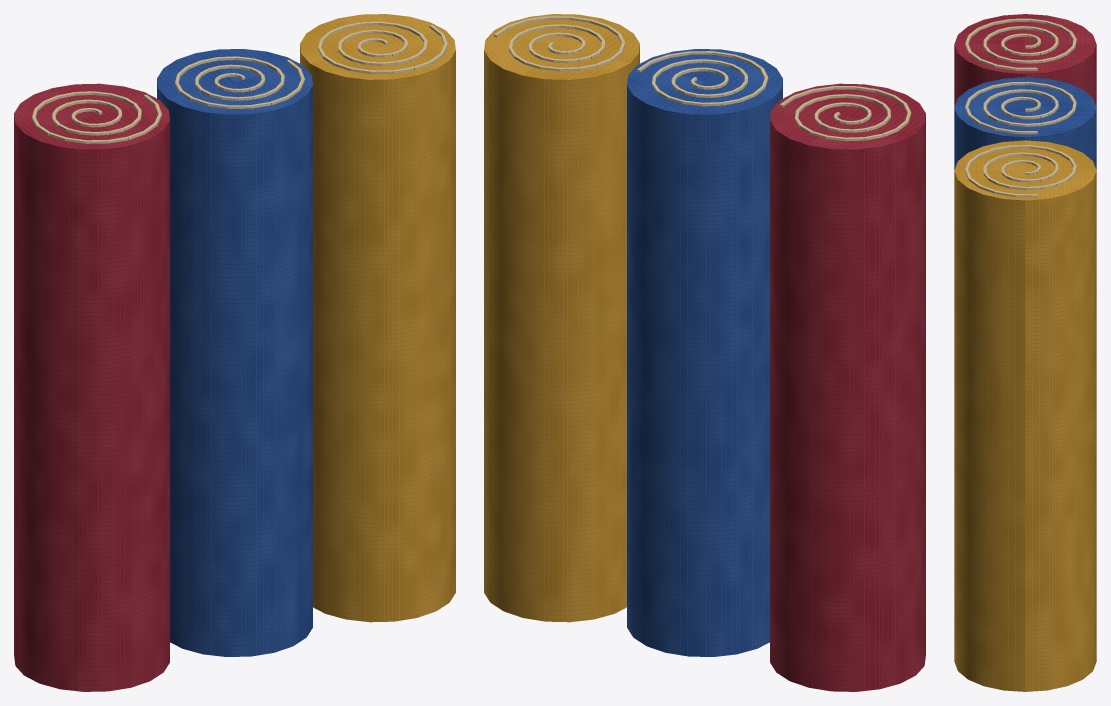
File: Rolled_Fabric.fbx
3 renders of one model, left to right at view 1: azimuth 30°, elevation 25°; view 2: azimuth 150°, elevation 25°; view 3: azimuth 270°, elevation 25°, orthographic. The views are drawn at different scales.
Visible parts, largest first — view 1: Rolled fabric, Rolled fabric.002, Rolled fabric.001; view 2: Rolled fabric, Rolled fabric.001, Rolled fabric.002; view 3: Rolled fabric.002, Rolled fabric, Rolled fabric.001.
Boxes of the visible parts, x1,y1,x2,y2 form: Rolled fabric: [14, 83, 169, 691]; Rolled fabric.002: [300, 14, 455, 622]; Rolled fabric.001: [157, 49, 312, 656]; Rolled fabric: [770, 83, 925, 691]; Rolled fabric.001: [627, 49, 782, 656]; Rolled fabric.002: [484, 14, 639, 622]; Rolled fabric.002: [954, 140, 1096, 691]; Rolled fabric: [954, 14, 1096, 106]; Rolled fabric.001: [954, 77, 1096, 169].
Size of the model in its own units: 118 by 146 by 38.
